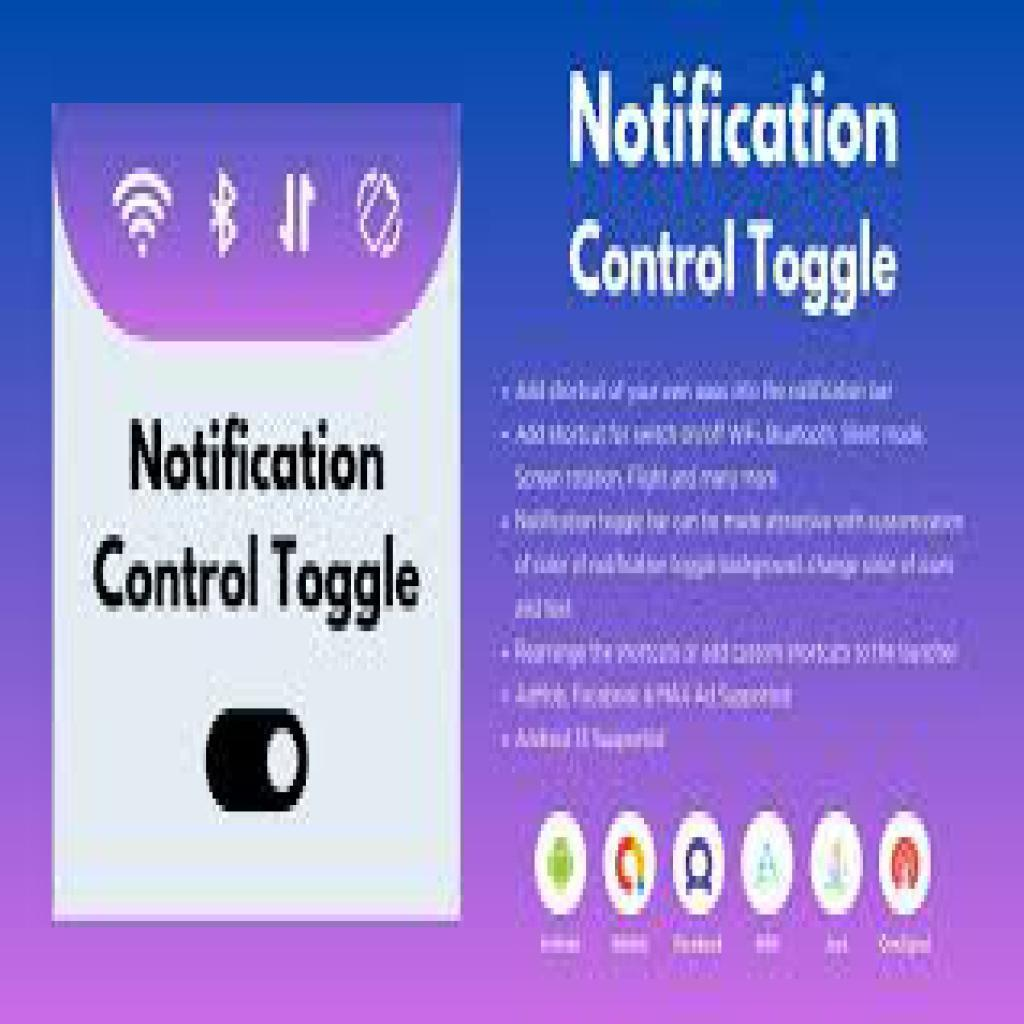switch: (207, 709, 308, 811)
